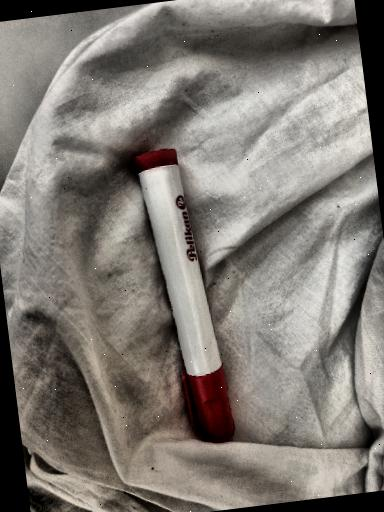marcador rojo: (133, 149, 234, 443)
